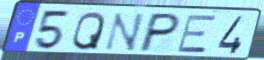4: (216, 15, 247, 55)
5: (32, 9, 76, 52)
E: (175, 14, 218, 54)
N: (102, 12, 147, 53)
P: (136, 12, 183, 54)
Q: (70, 10, 107, 52)
